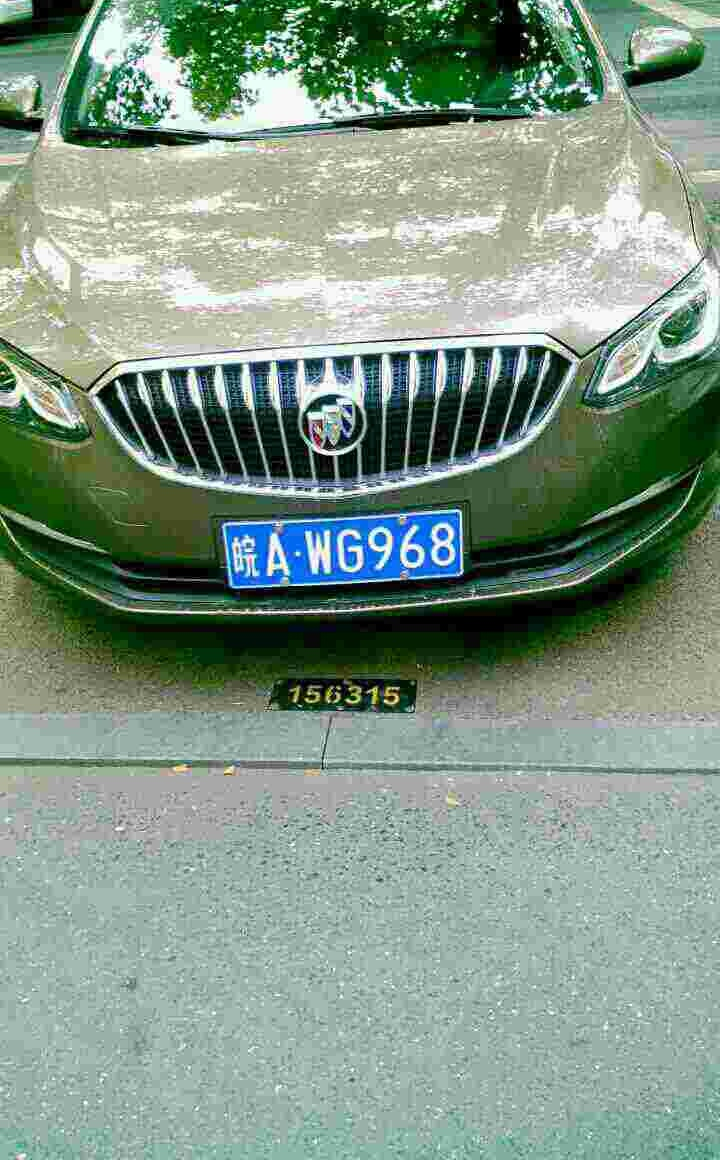license_plate: (229, 517, 456, 588)
